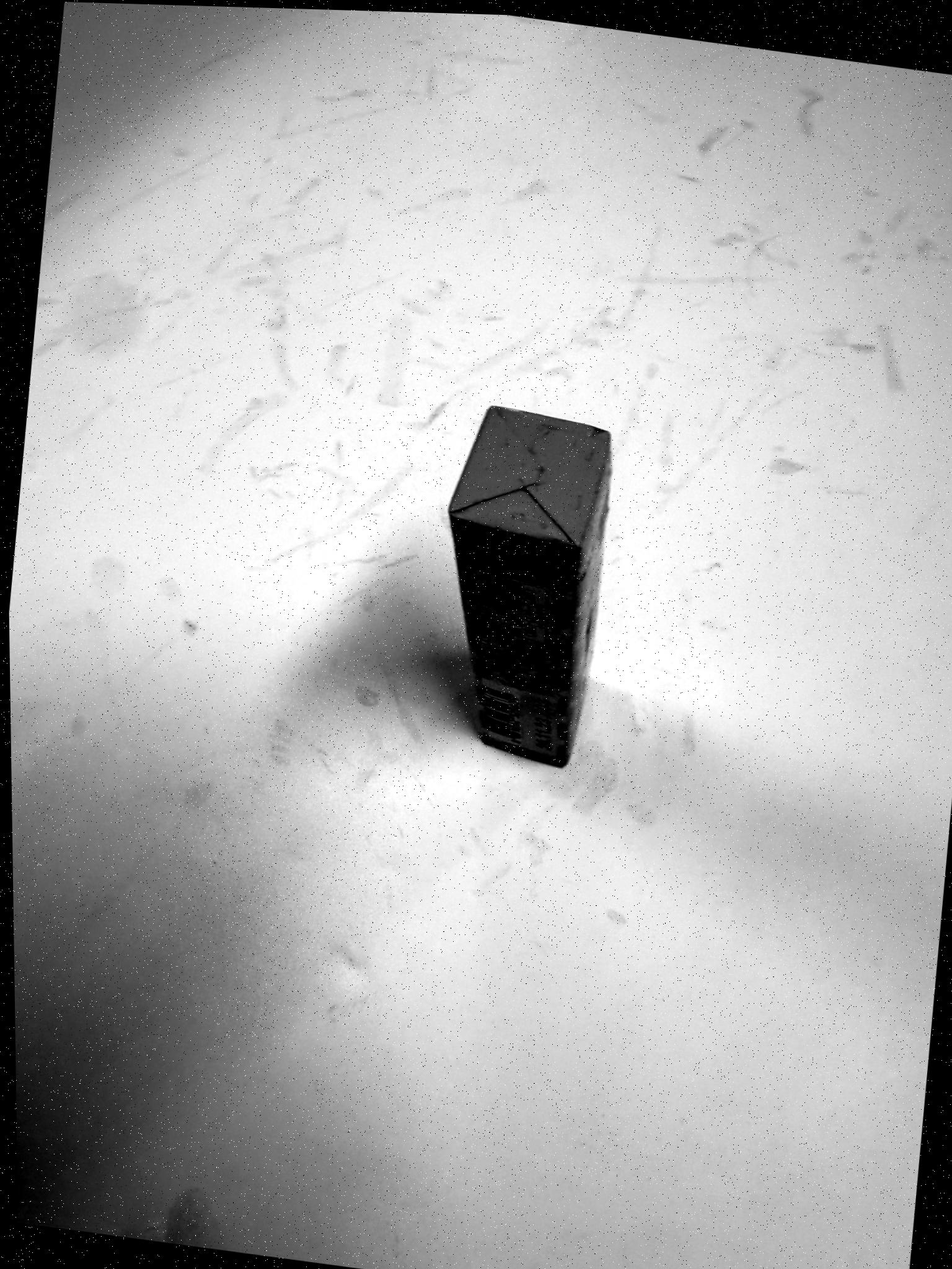gum_yellow: (445, 401, 614, 768)
